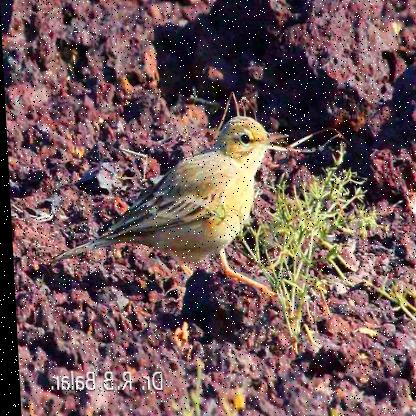Burung: (48, 117, 296, 311)
